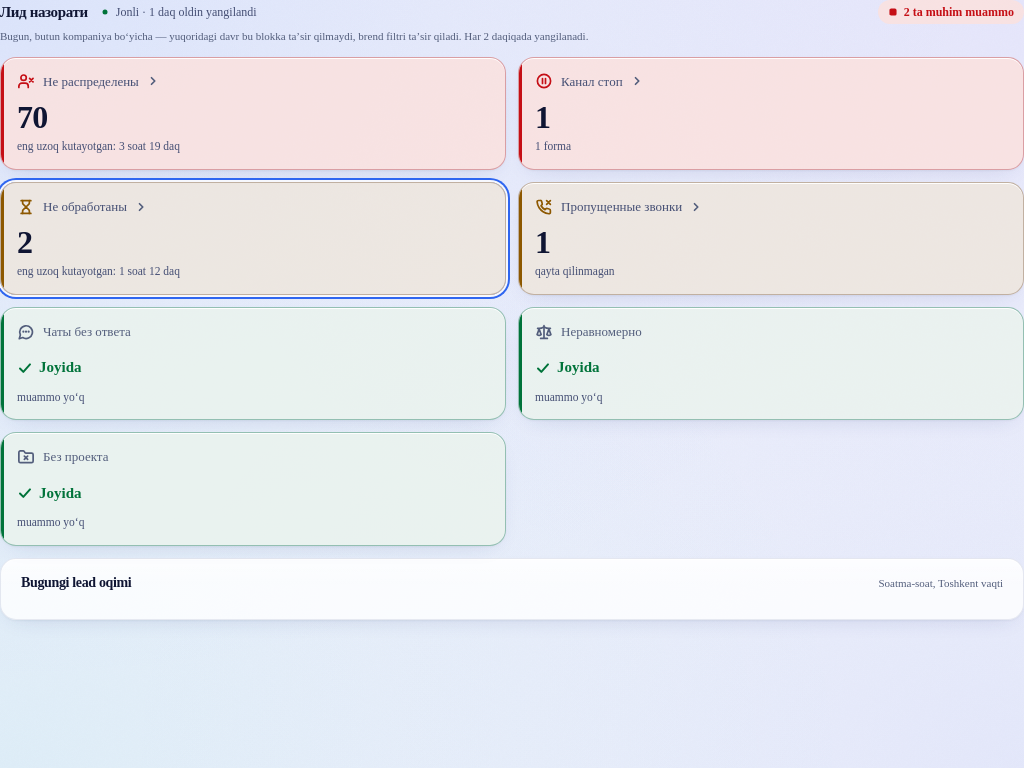
it: the drawer › draws a row: the customer and the note, the pill and the brand, the owner and the ROP, a timer, a link out
expect the text "Не распределены" is shown: met, box x1=43 y1=72 x2=139 y2=91
Click the button "Не обработаны 2 eng uzoq kutayotgan: 1 soat 12 daq": (85, 206) x1=0 y1=182 x2=506 y2=295
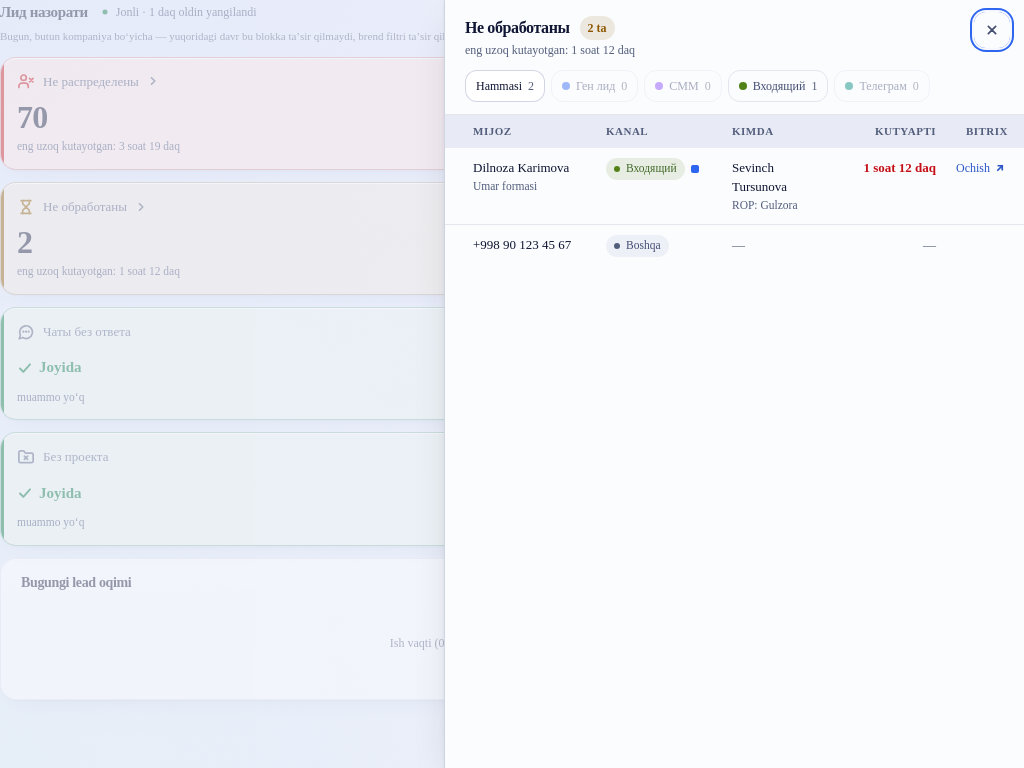
expect the text "Dilnoza Karimova" is shown: met, box x1=473 y1=160 x2=569 y2=174
expect the text "Umar formasi" is shown: met, box x1=473 y1=180 x2=537 y2=192
expect the text "Входящий" is shown: met, box x1=606 y1=158 x2=685 y2=180
